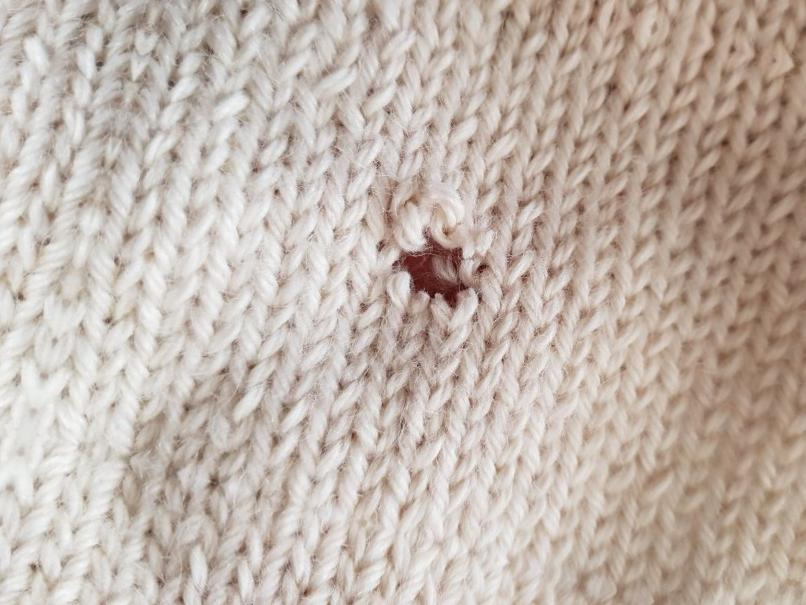hole: (387, 214, 493, 324)
